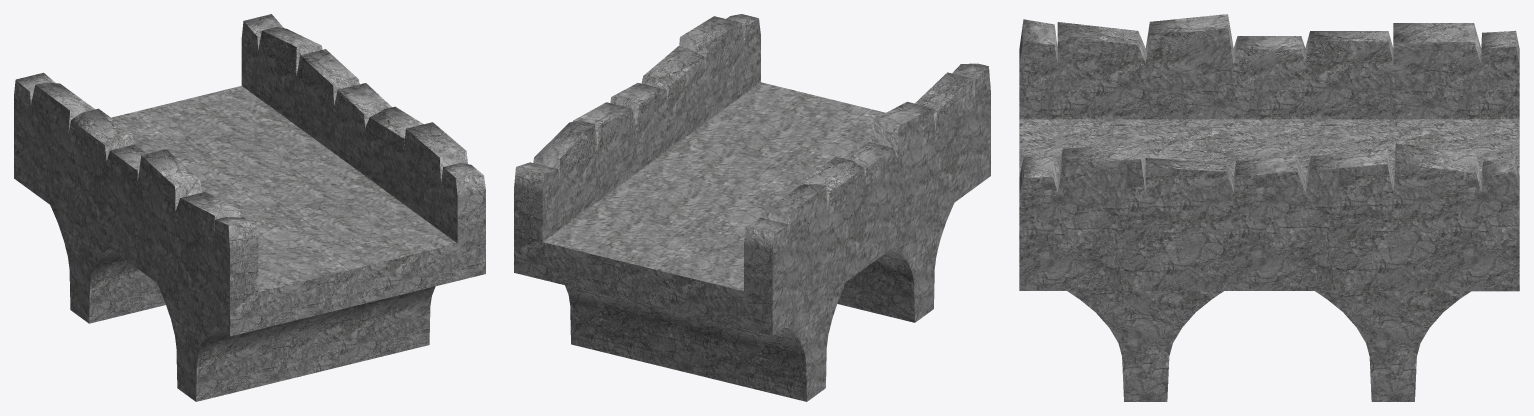
The model's file is materials_3_bridge_0.fbx.
The picture shows the model from 3 angles, left to right: view 1: azimuth 30°, elevation 25°; view 2: azimuth 150°, elevation 25°; view 3: azimuth 270°, elevation 25°; orthographic projection. The views are drawn at different scales.
Parts seen in each view (by area): view 1: materials_3_bridge_0; view 2: materials_3_bridge_0; view 3: materials_3_bridge_0.
Boxes of the visible parts, x1,y1,x2,y2 form: materials_3_bridge_0: [14, 14, 485, 401]; materials_3_bridge_0: [514, 14, 990, 401]; materials_3_bridge_0: [1019, 14, 1519, 401].
Size of the model in its own units: 300 by 242 by 438.
